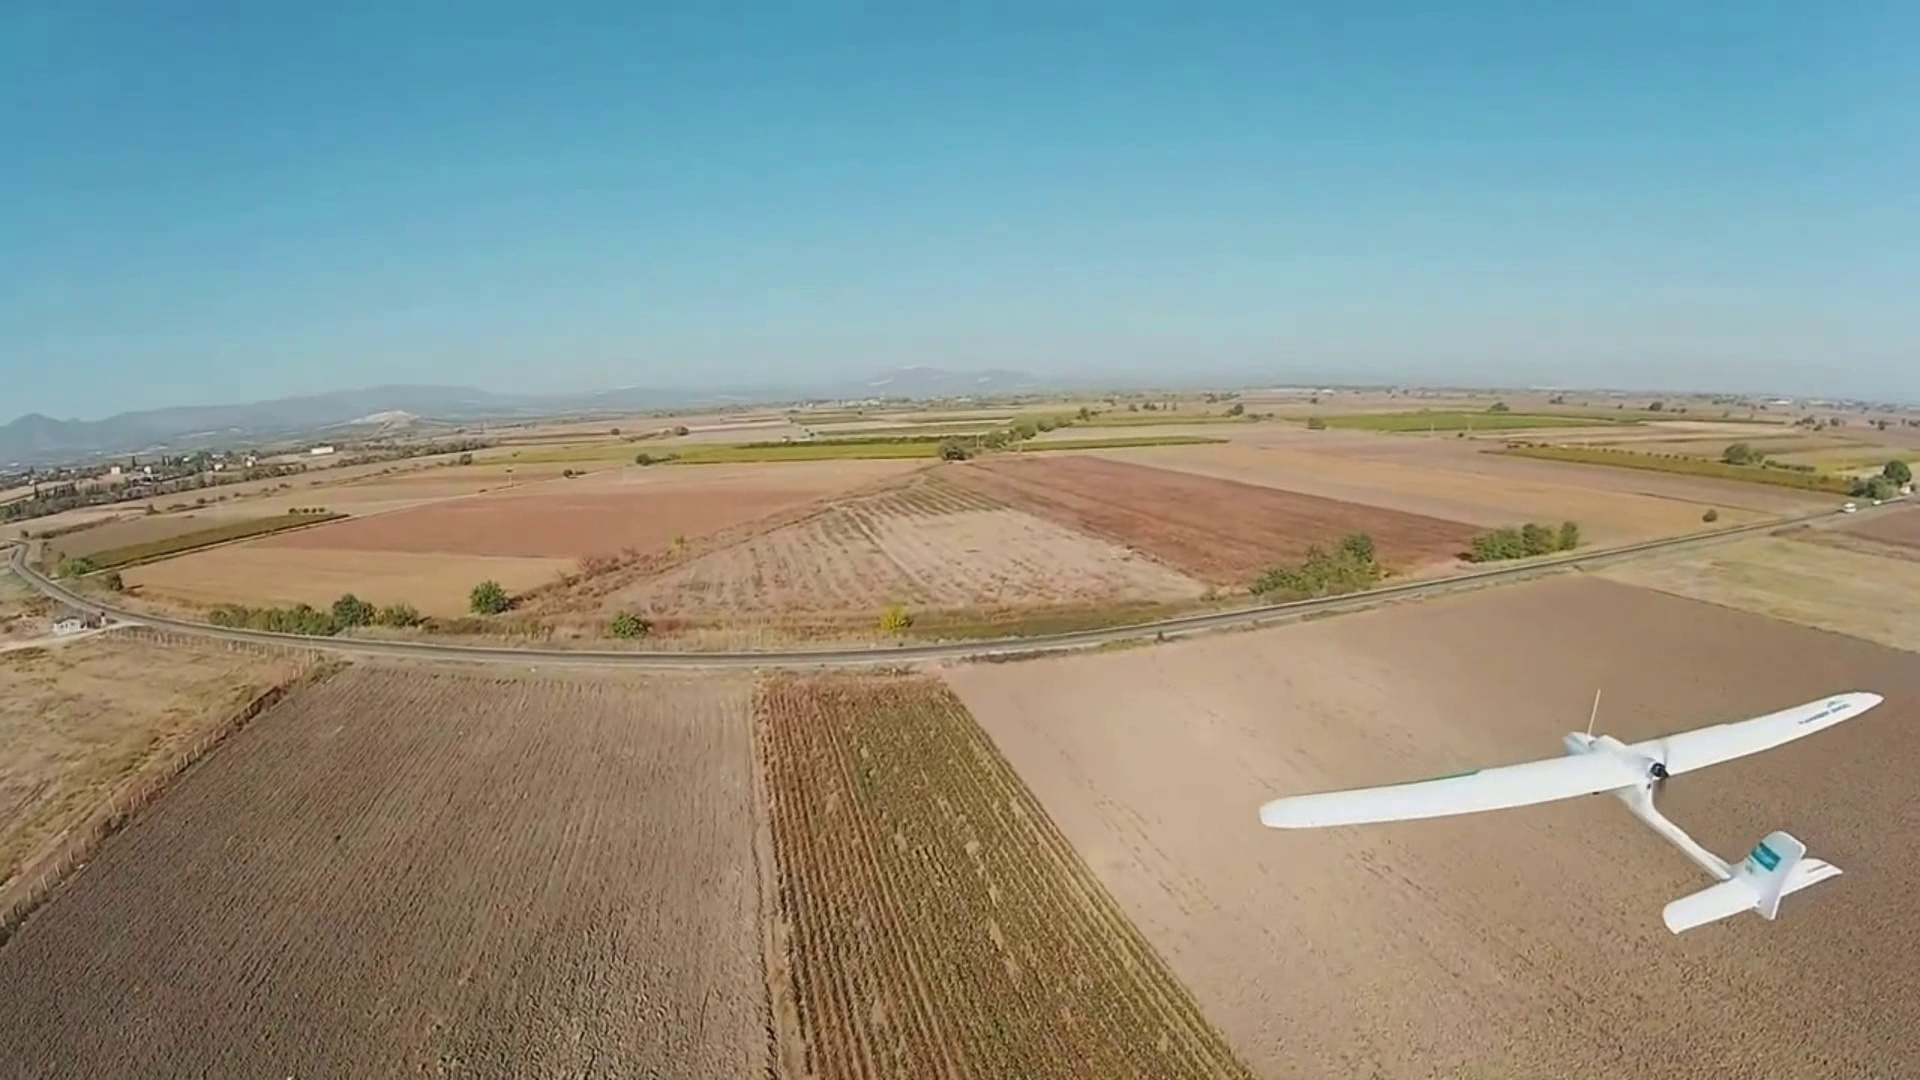airplane: (1253, 684, 1880, 932)
